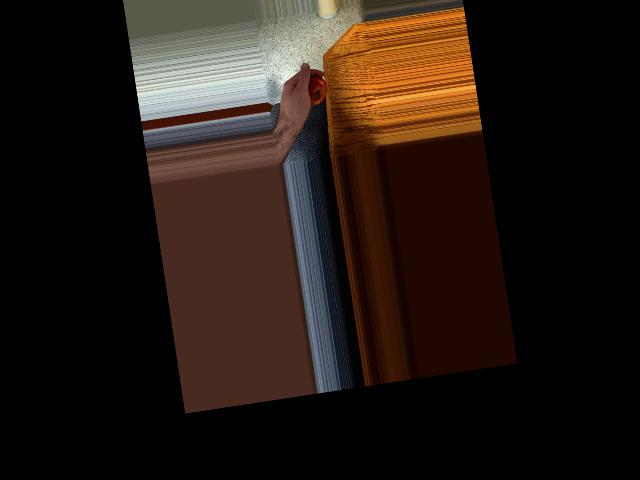apple: (295, 72, 331, 109)
